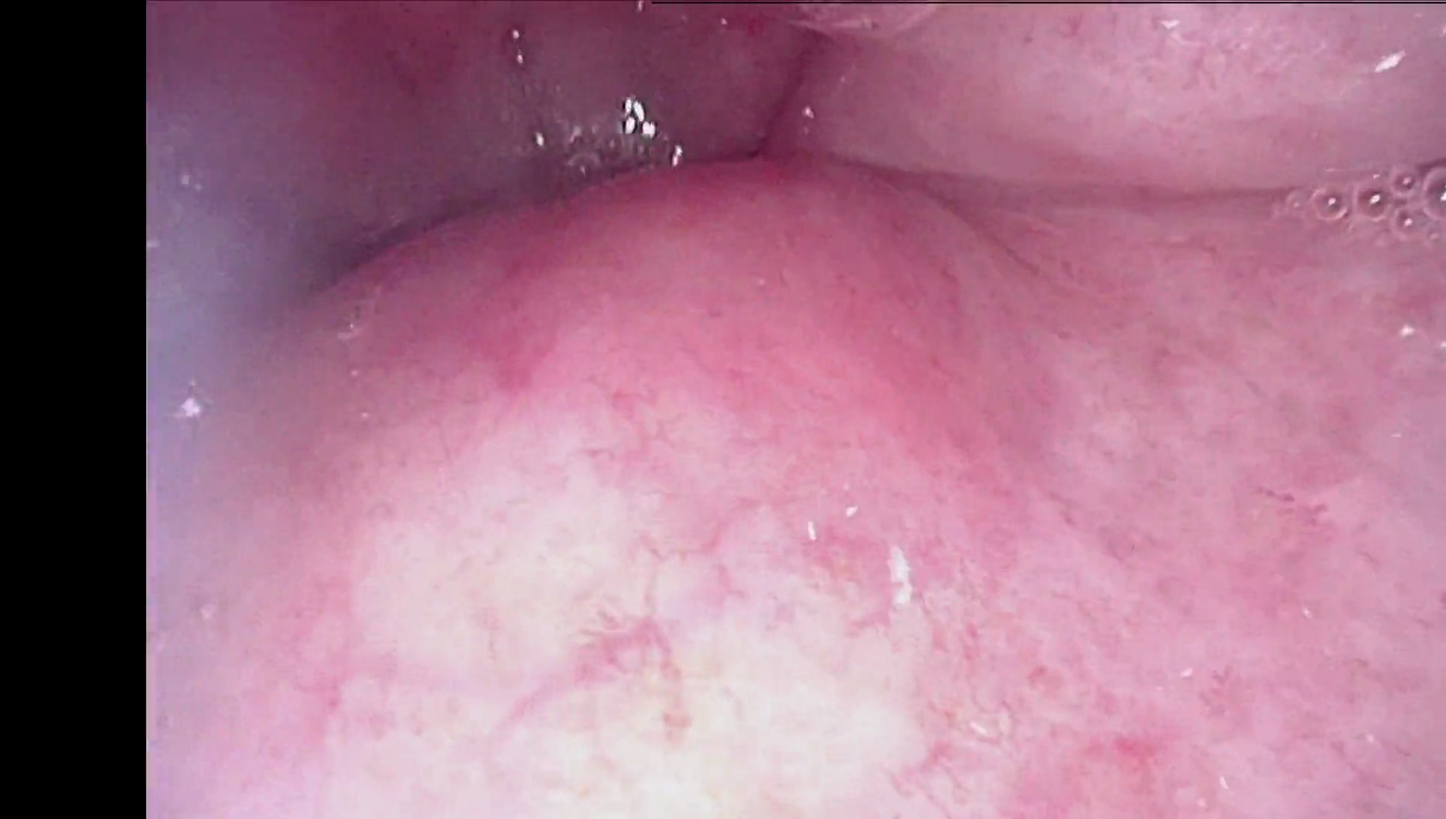close_wall: (353, 308, 1151, 819)
next: (250, 185, 429, 296)
